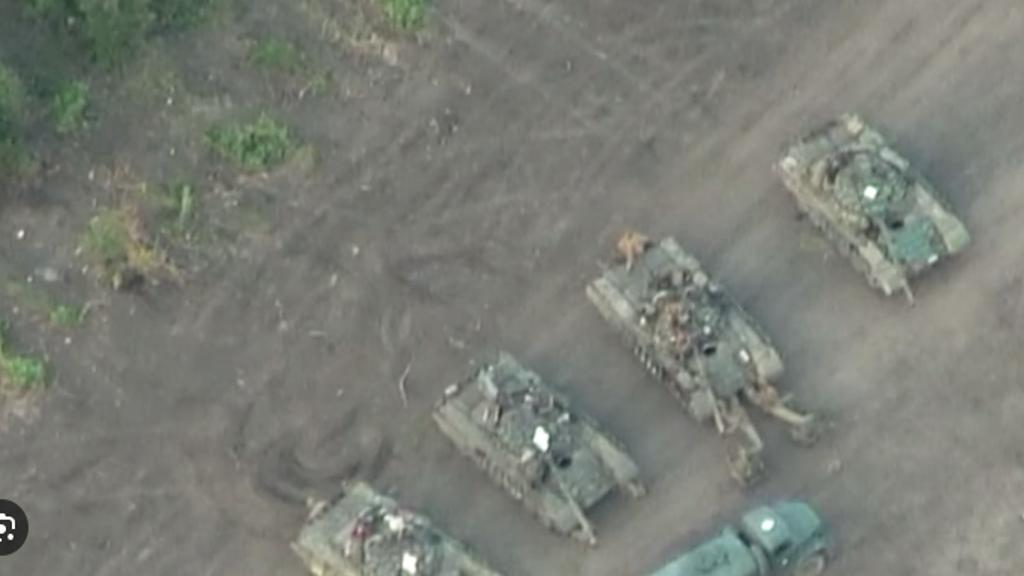TANK: (423, 344, 644, 543), (581, 231, 783, 435), (772, 108, 974, 311), (277, 473, 509, 575)
TRUCK: (638, 500, 829, 575)
